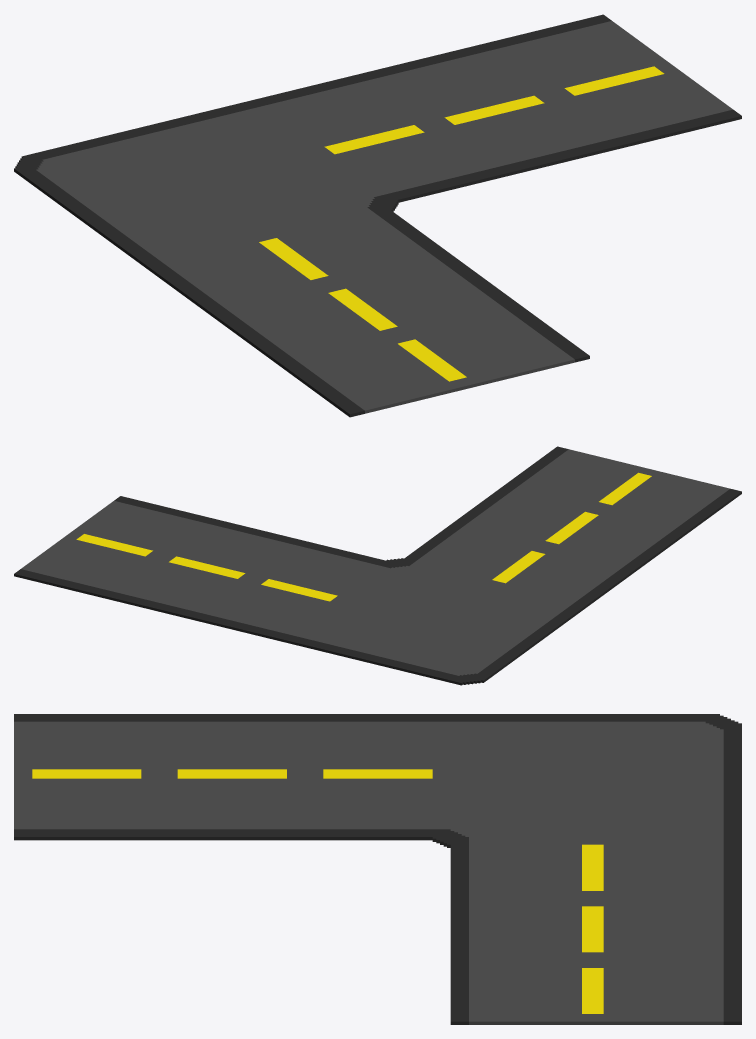
Rendered from rounded_road.obj.
The picture shows the model from 3 angles, top to bottom: view 1: azimuth 30°, elevation 25°; view 2: azimuth 150°, elevation 25°; view 3: azimuth 270°, elevation 25°; orthographic projection. The views are drawn at different scales.
Bounding box in the file's own units: 20 × 0.1 × 20.
Materials: 1 (1 with a texture image).
